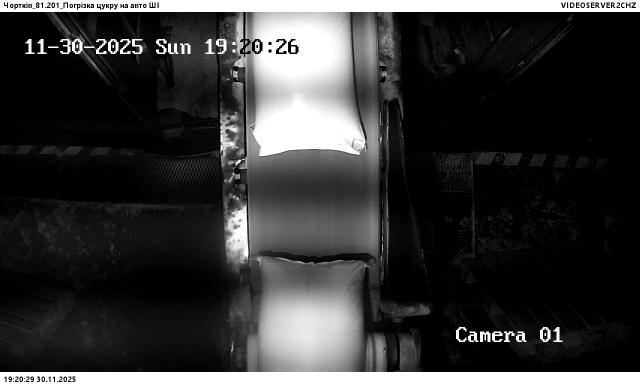bag: (252, 13, 366, 156), (256, 257, 373, 372)
